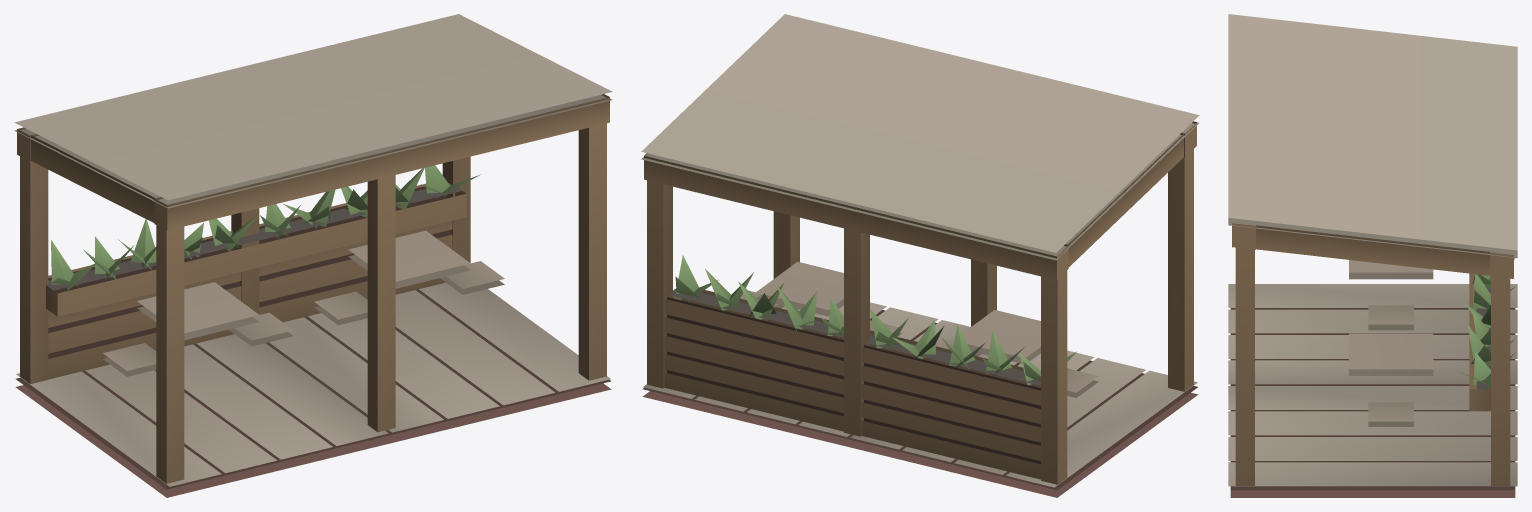
File: dining.lod.glb
3 views of the same model, side by side, from view 1: azimuth 30°, elevation 25°; view 2: azimuth 150°, elevation 25°; view 3: azimuth 270°, elevation 25° (orthographic). The views are drawn at different scales.
Visible parts, largest first — view 1: dining; view 2: dining; view 3: dining.
Boxes of the visible parts, x1=… form: dining: x1=14, y1=14, x2=612, y2=497; dining: x1=641, y1=14, x2=1199, y2=497; dining: x1=1228, y1=14, x2=1517, y2=497.
Size of the model in its own units: 4 by 2.57 by 2.4.
